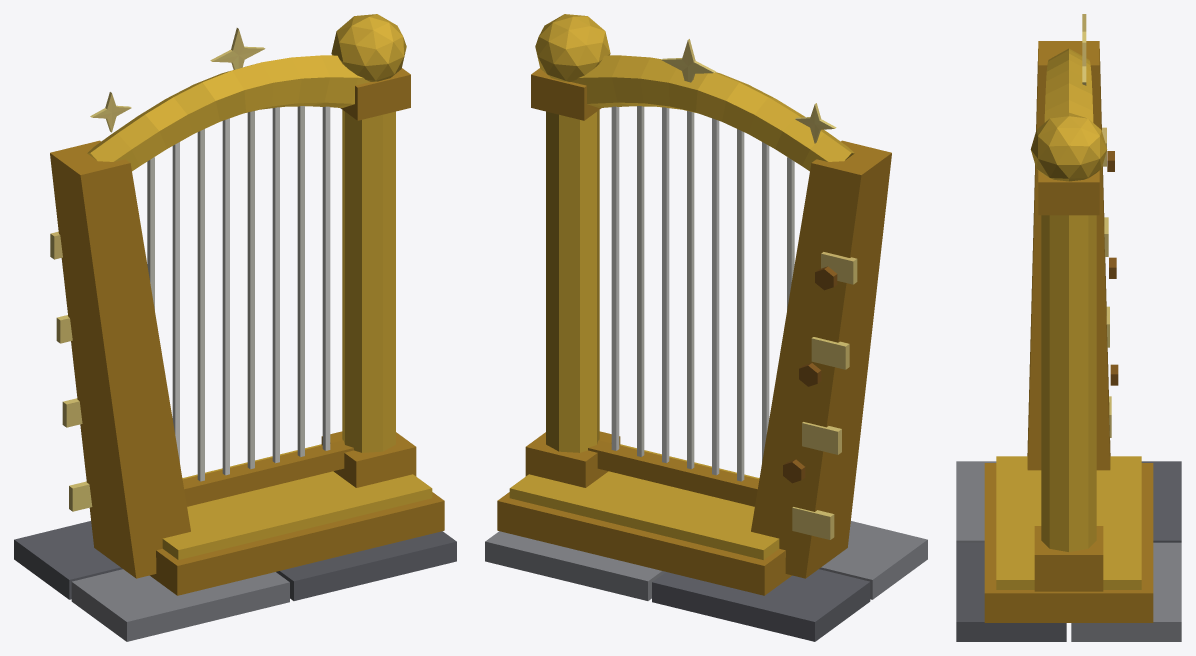
Rendered from Decor_Beanstalk_Harp.fbx.
3 renders of one model, left to right at view 1: azimuth 30°, elevation 25°; view 2: azimuth 150°, elevation 25°; view 3: azimuth 270°, elevation 25°, orthographic.
Visible parts, largest first — view 1: Harp_Body; view 2: Harp_Body; view 3: Harp_Body.
Boxes of the visible parts, x1,y1,x2,y2 form: Harp_Body: (14, 14, 456, 641); Harp_Body: (485, 14, 927, 641); Harp_Body: (956, 14, 1181, 641).
Bounding box in the file's own units: 10.37 × 15.4 × 6.
